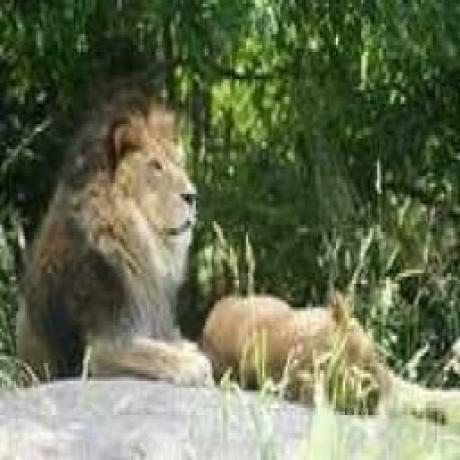Lion: (16, 84, 216, 388), (201, 294, 393, 412)
